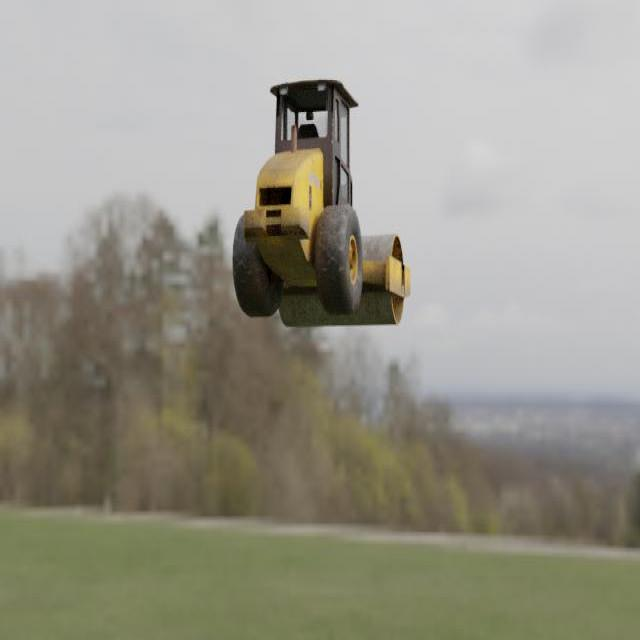Roller: (231, 77, 411, 327)
